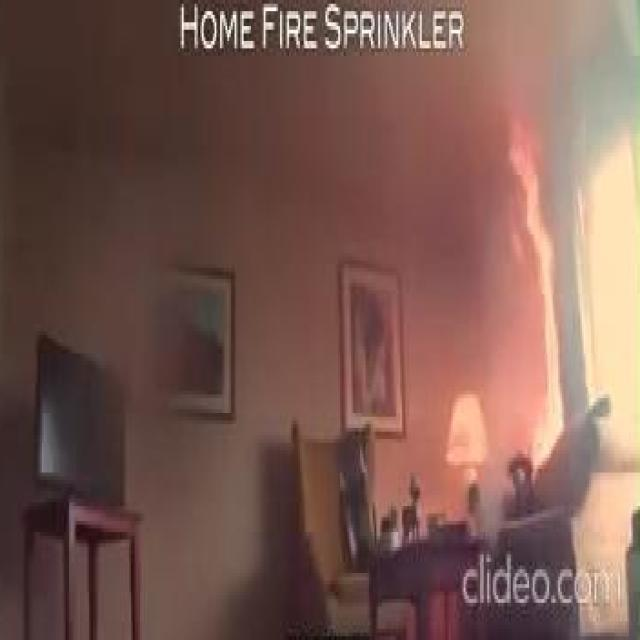smoke: (509, 108, 564, 462)
